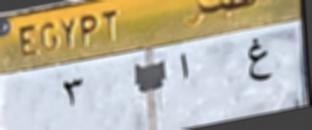3: (57, 72, 97, 114)
alif: (175, 49, 198, 87)
ghayn: (241, 33, 273, 87)
